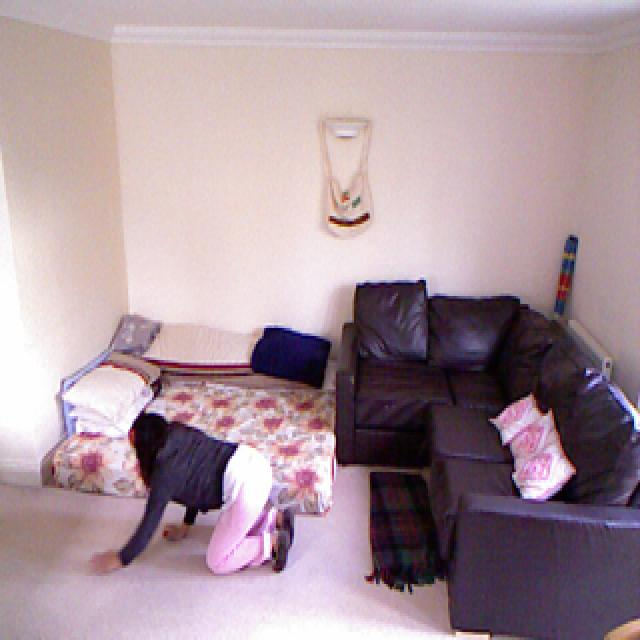crawling: (94, 409, 295, 578)
